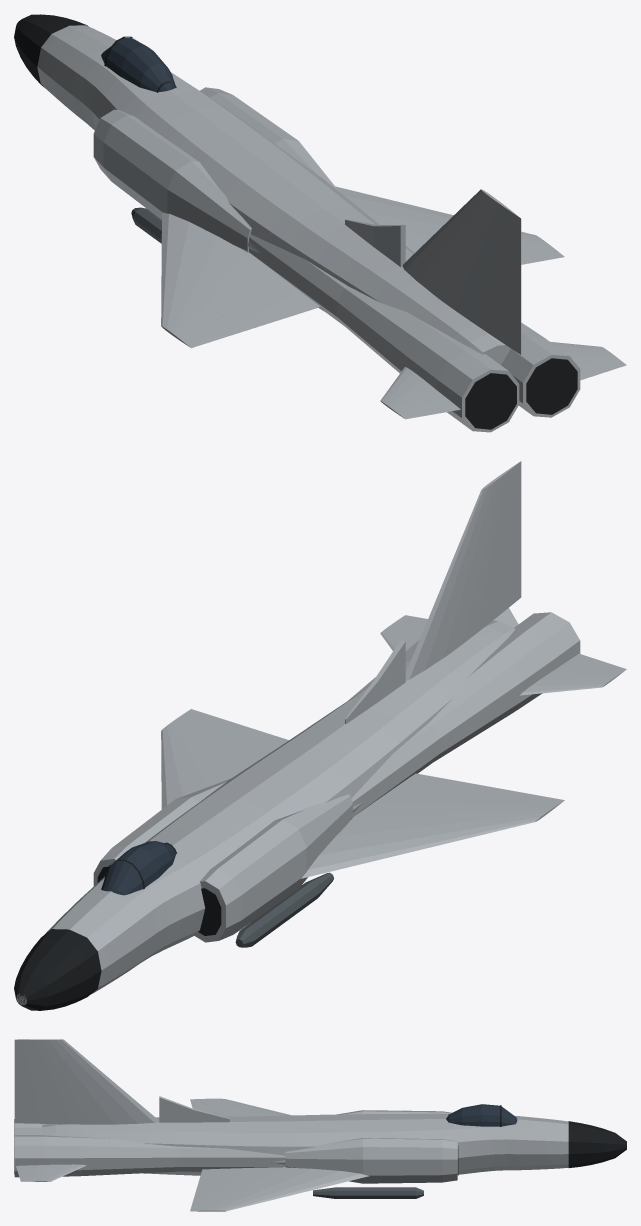
3 views of the same model, one above another, from view 1: azimuth 30°, elevation 25°; view 2: azimuth 150°, elevation 25°; view 3: azimuth 270°, elevation 25° (orthographic). The views are drawn at different scales.
Parts seen in each view (by area): view 1: Fuselage, Nacelles, Intake Cheeks, Wing L, Vertical Fin, Rudder, Wing R, Cockpit Glass, Exhaust L, Exhaust R, Flap L, Radome (+7 smaller); view 2: Fuselage, Nacelles, Intake Cheeks, Wing L, Vertical Fin, Wing R, Radome, Rudder, Cockpit Glass, Gun Pods, Flap L, Dorsal Fillet (+4 smaller); view 3: Fuselage, Nacelles, Intake Cheeks, Vertical Fin, Wing R, Rudder, Radome, Gun Pods, Cockpit Glass, Dorsal Fillet, Wing L, Flap R (+2 smaller).
Boxes of the visible parts, x1,y1,x2,y2 form: Fuselage: (37,25,510,364); Nacelles: (249,234,580,432); Intake Cheeks: (93,87,339,252); Wing L: (161,212,319,348); Vertical Fin: (402,189,507,323); Rudder: (475,207,521,354); Wing R: (335,186,564,258); Cockpit Glass: (101,38,175,92); Exhaust L: (465,373,516,429); Exhaust R: (526,358,577,414); Flap L: (228,279,312,329); Radome: (14,14,88,88); Fuselage: (16,620,515,1005); Nacelles: (348,608,580,816); Intake Cheeks: (93,778,352,942); Wing L: (301,773,564,878); Vertical Fin: (405,471,507,680); Wing R: (161,709,258,809); Radome: (14,929,101,1010); Rudder: (481,461,521,629); Cockpit Glass: (101,841,175,895); Gun Pods: (235,872,333,947); Flap L: (389,775,497,801); Dorsal Fillet: (345,640,405,723); Fuselage: (42,1113,568,1175); Nacelles: (14,1123,285,1177); Intake Cheeks: (285,1110,457,1183); Vertical Fin: (32,1039,159,1124); Wing R: (190,1167,369,1211); Rudder: (14,1039,67,1124); Radome: (568,1121,626,1167); Gun Pods: (313,1187,423,1198); Cockpit Glass: (446,1104,517,1126); Dorsal Fillet: (159,1096,229,1122); Wing L: (190,1098,291,1116); Flap R: (196,1170,245,1192).
Size of the model in its own units: 8.6 by 5.15 by 19.92.
